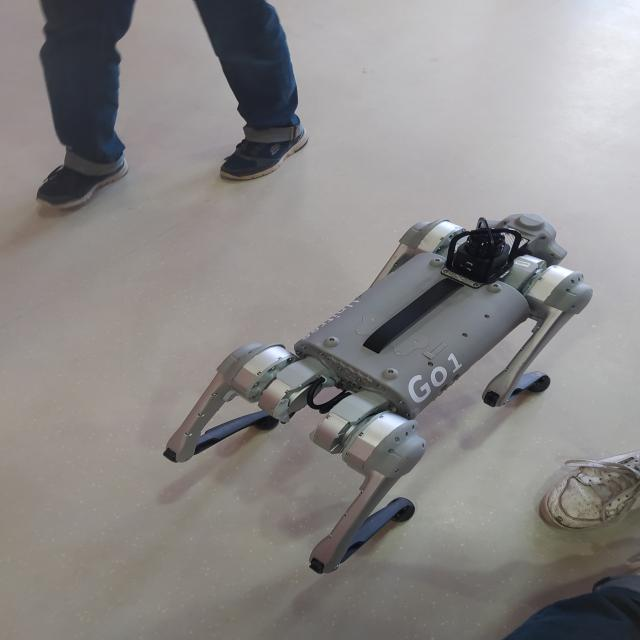unitree-go1-robot: (131, 202, 600, 590)
